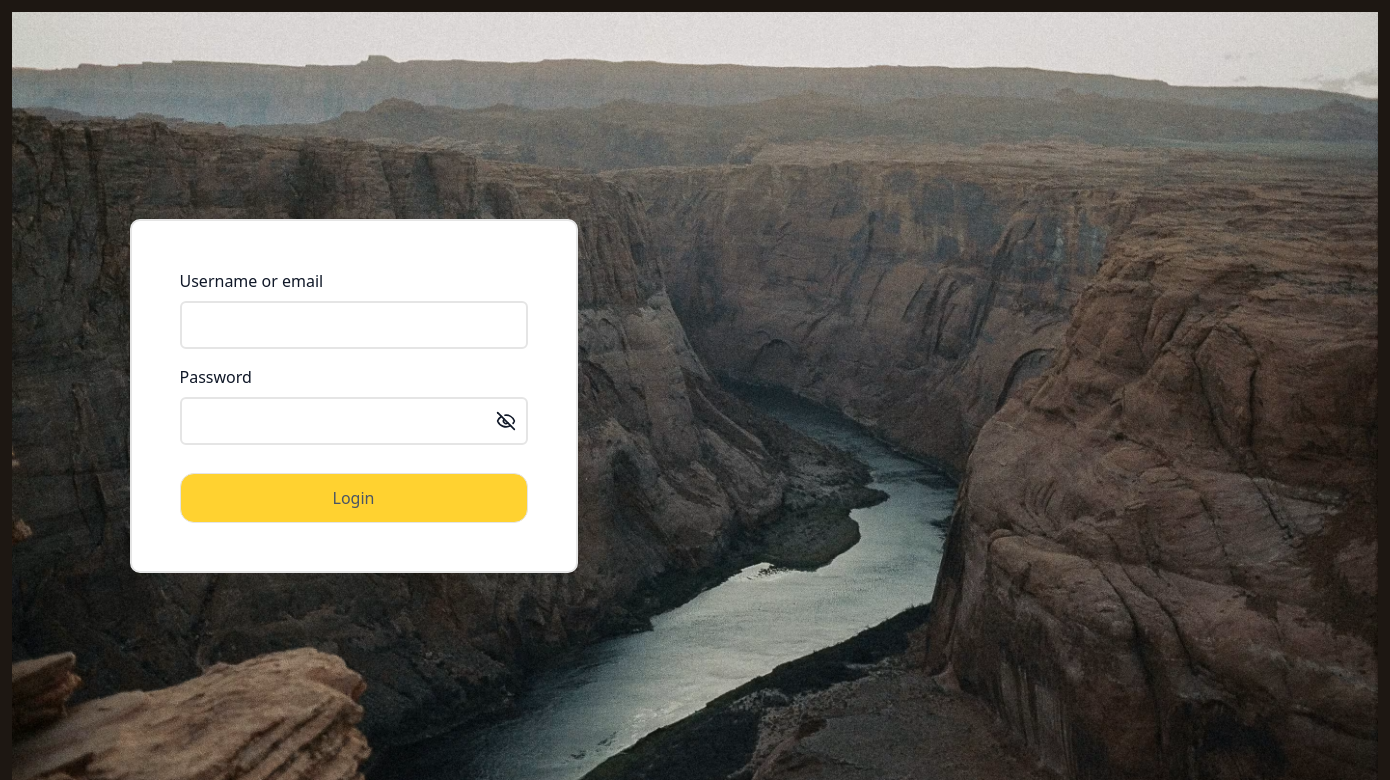
Scenario: LoginForm › Include error flow › getLoginUserData; Success & Error › shows error message when login request fails
Type "user@example.com" into the field with test id "login-email" at [354, 325], box [180, 301, 528, 349]
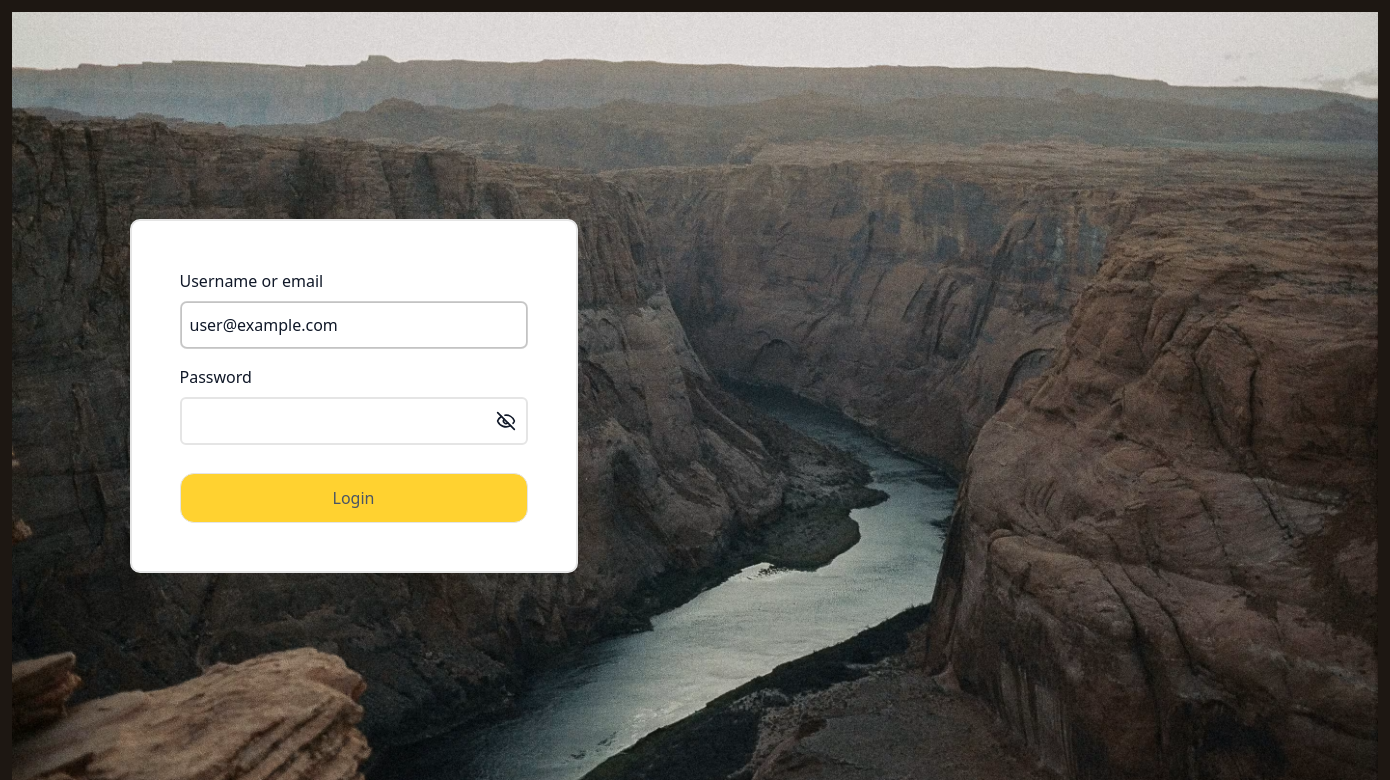
Type "wrong-password" into the password field with test id "login-password" at [354, 421], box [180, 397, 528, 445]
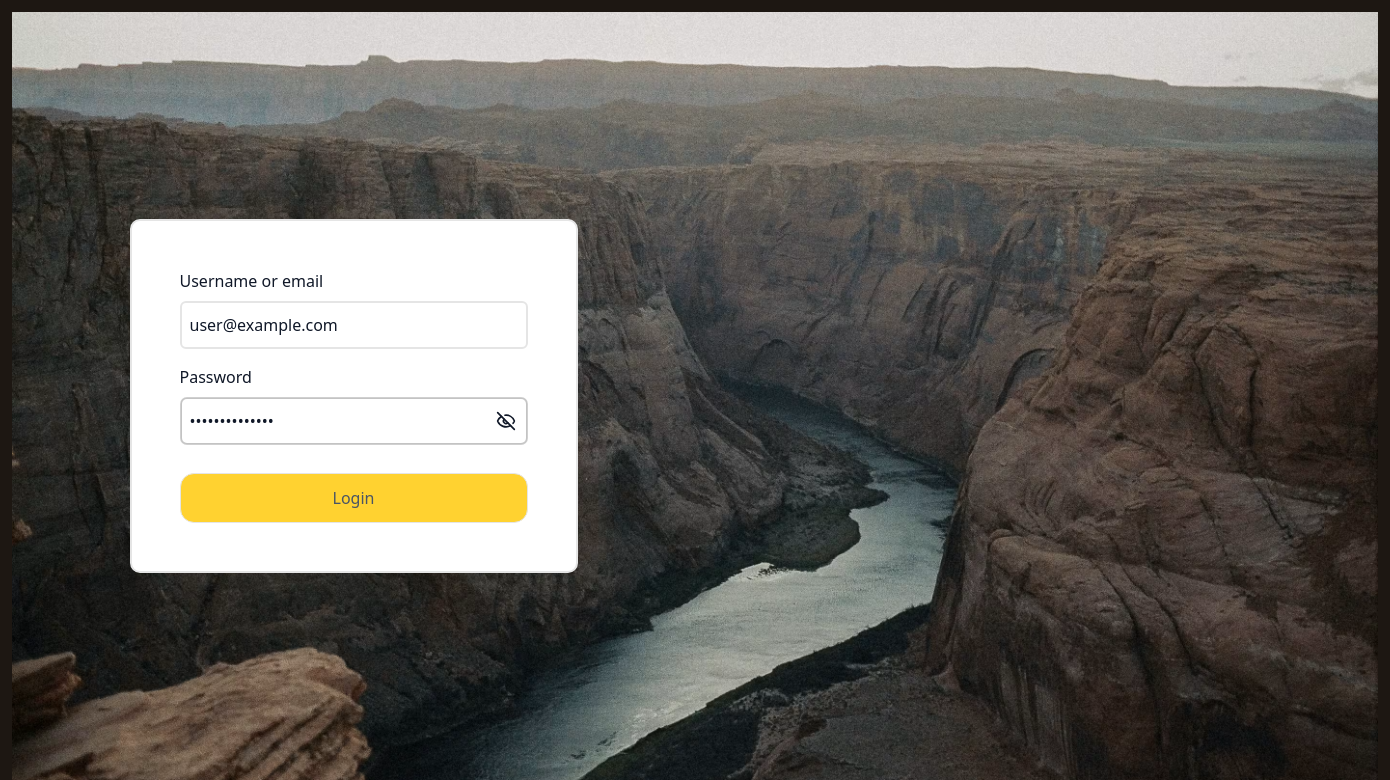
Click the button with test id "login-submit" at [354, 498], box [180, 473, 528, 523]
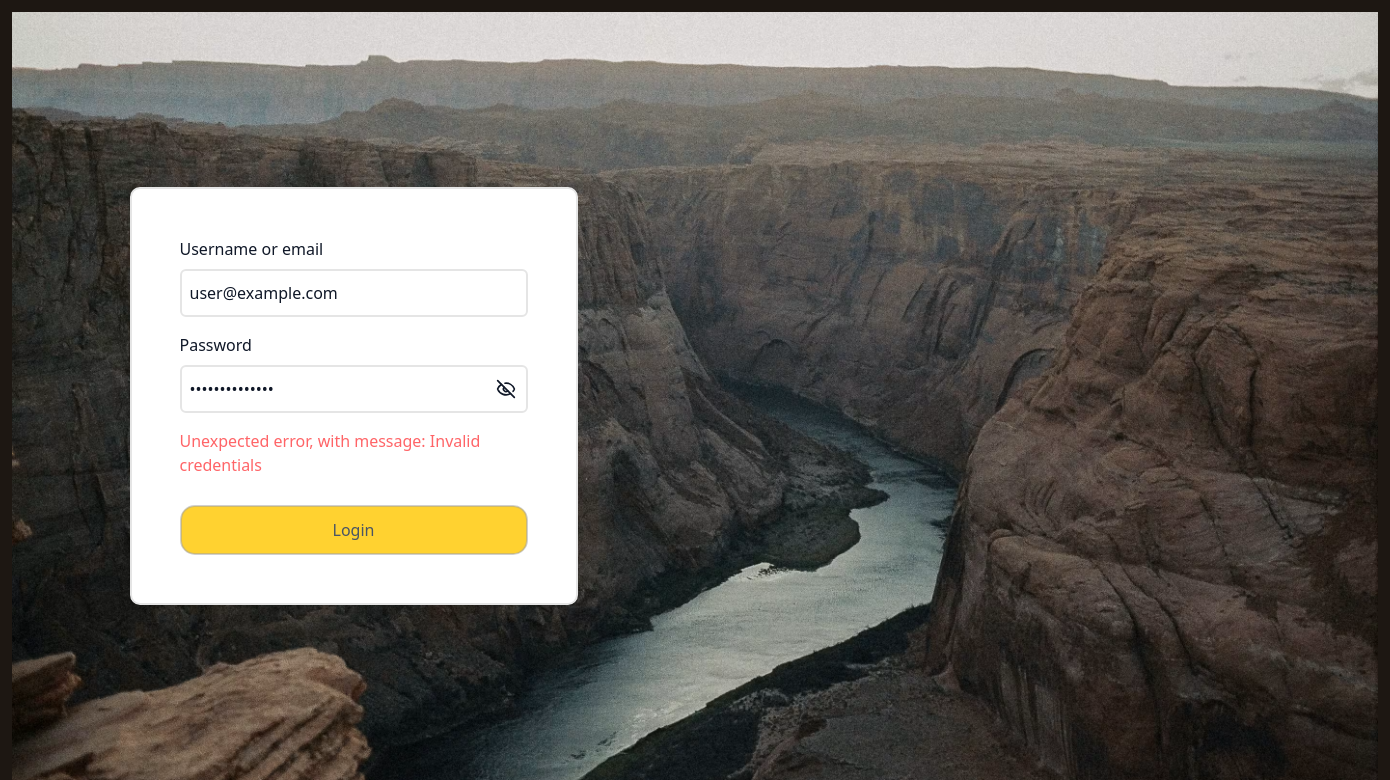
Expected: the message "Unexpected error, with message: Invalid credentials" is shown, [180, 429, 528, 477]
